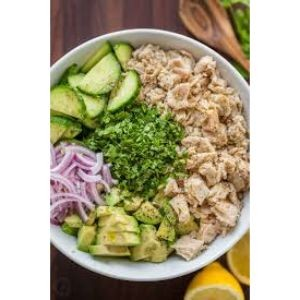tuna_brain food: (155, 52, 239, 256)
